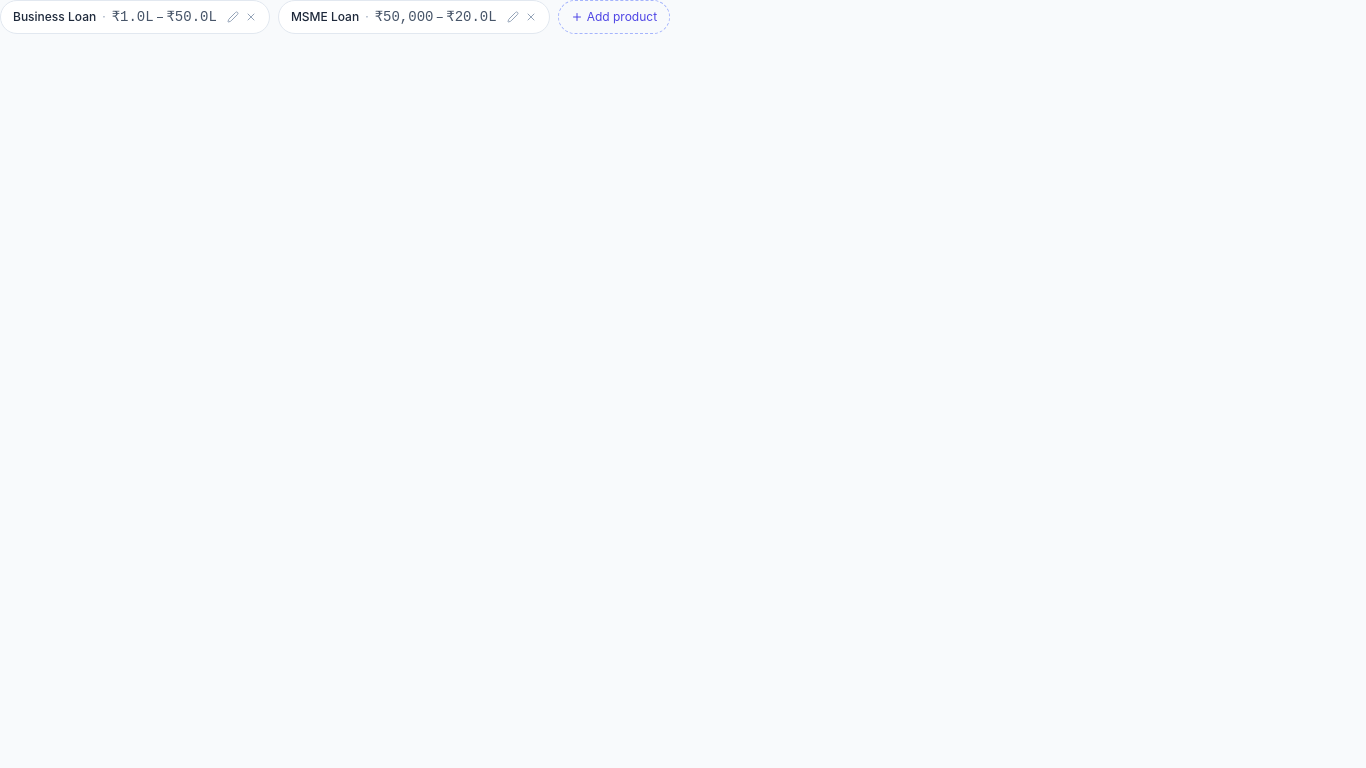
Test case: ProductChipsEditor › opens edit modal when edit button is clicked
The image size is (1366, 768).
Click the button named "edit business loan" at [233, 17], box [227,11,239,23]
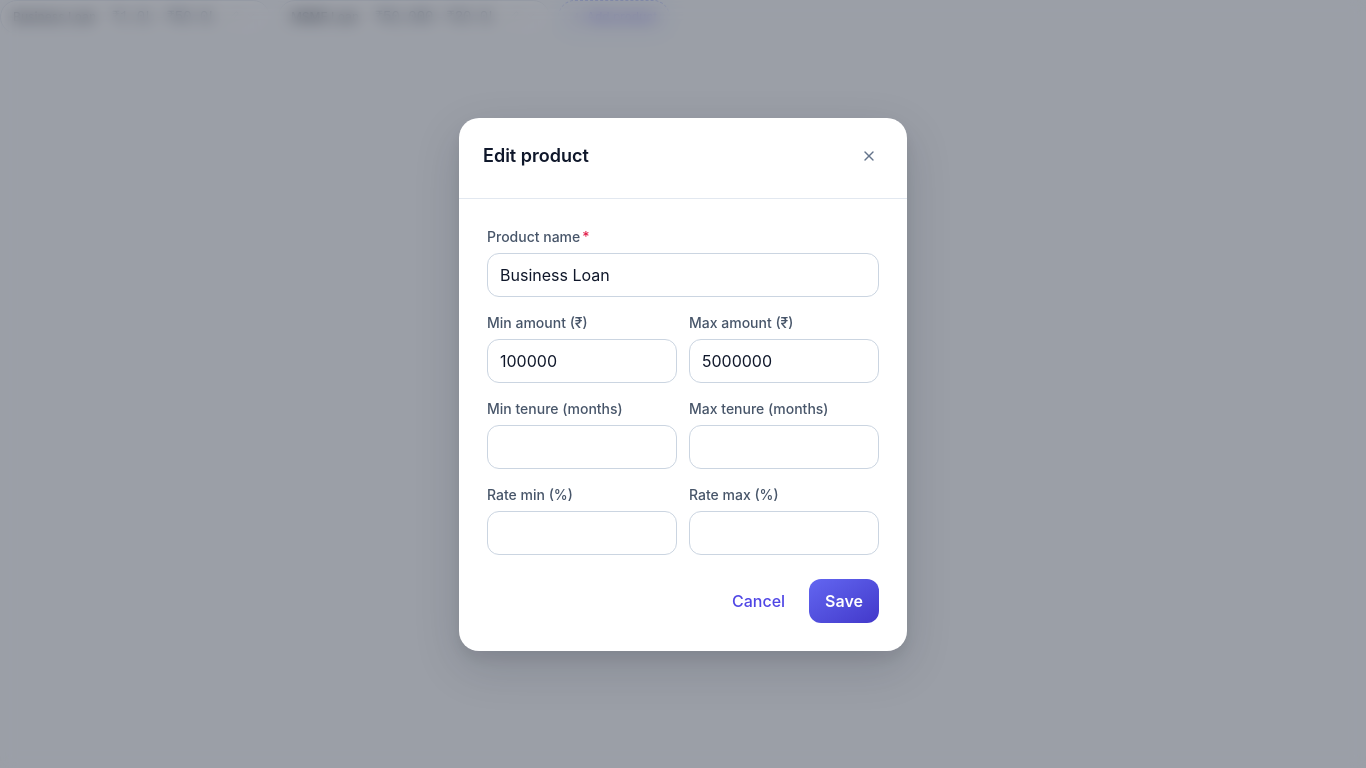
Result: the dialog is shown
